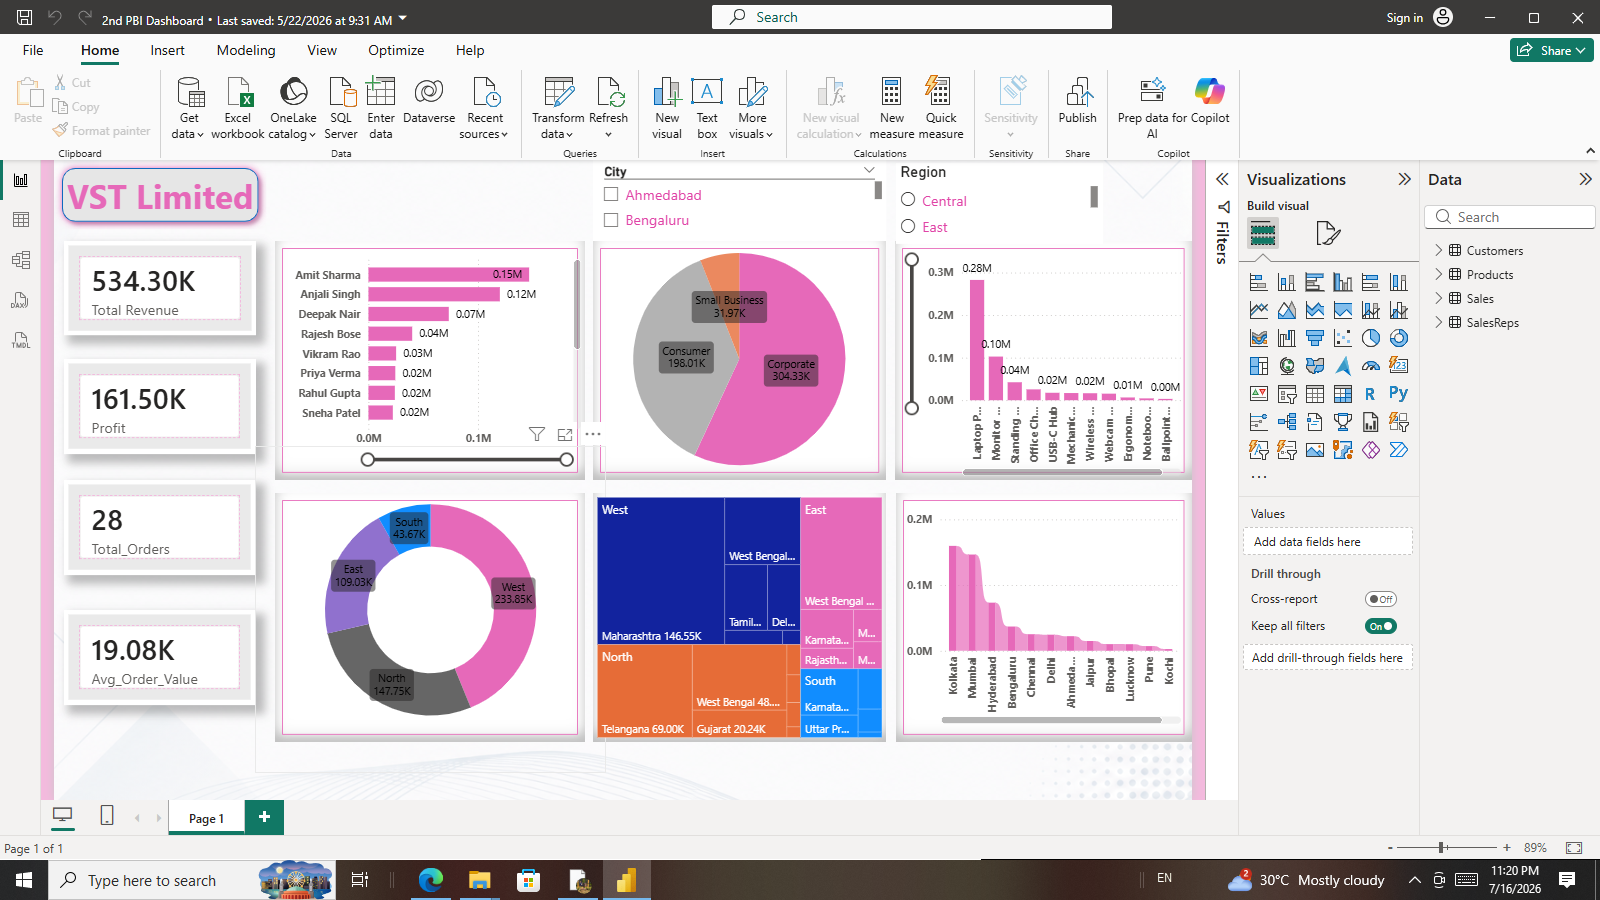

The dashboard page shown, as its layout file describes it:
{"tool":"powerbi","page":{"name":"Page 1","canvas":[1280,720],"ordinal":0},"visuals":[{"type":"shape","box":[0,0,239,78.4],"z":0},{"type":"cardVisual","fields":{"Data":["Customers.Total Revenue"]},"box":[11.2,91.2,216.2,106.2],"z":1000},{"type":"cardVisual","fields":{"Data":["Customers.Profit"]},"box":[11.6,223.6,215.9,106.7],"z":2000},{"type":"cardVisual","fields":{"Data":["Customers.Total_Orders"]},"box":[11.6,359.8,215.9,106.7],"z":3000},{"type":"cardVisual","fields":{"Data":["Customers.Avg_Order_Value"]},"box":[11.6,506.3,215.9,106.7],"z":4000},{"type":"shape","box":[248.8,91.2,348.8,268.8],"z":5000},{"type":"shape","box":[606.2,91.2,330,268.8],"z":6000},{"type":"shape","box":[248.8,375,348.8,280],"z":7000},{"type":"shape","box":[606.2,375,330,280],"z":8000},{"type":"shape","box":[946.2,91.2,333.8,268.8],"z":9000},{"type":"shape","box":[947.5,375,332.5,280],"z":10000},{"type":"clusteredBarChart","fields":{"Category":["Customers.CustomerName"],"Y":["Sum(Sales.TotalAmount)"]},"box":[258.8,98.8,338.8,248.8],"z":11000},{"type":"ribbonChart","fields":{"Category":["Customers.City"],"Y":["Sum(Sales.TotalAmount)"]},"box":[953.8,390,318.8,248.8],"z":12000},{"type":"pieChart","fields":{"Category":["Customers.Segment"],"Y":["Sum(Sales.TotalAmount)"]},"box":[542.5,53.8,457.5,340],"z":13000},{"type":"donutChart","fields":{"Category":["SalesReps.Region"],"Y":["Sum(Sales.TotalAmount)"]},"box":[226.2,321.2,395,368.8],"z":14000},{"type":"treemap","fields":{"Group":["SalesReps.Region","Customers.City"],"Details":["Customers.State"],"Values":["Sum(Sales.TotalAmount)"]},"box":[606.2,375,330,280],"z":15000},{"type":"columnChart","fields":{"Category":["Products.ProductName"],"Y":["Sum(Sales.TotalAmount)"]},"box":[953.8,98.8,318.8,261.2],"z":16000},{"type":"listSlicer","fields":{"Values":["Customers.Region"]},"box":[947.2,3.4,232.9,91.1],"z":17000},{"type":"slicer","fields":{"Values":["Customers.City"]},"box":[606.4,0,329.6,91.1],"z":18000}]}

Visuals, with their boxes on the page's 1280x720 design canvas (x1, y1, x2, y2). These are canvas units, not pixel positions in the 1600x900 screenshot, which may show the page scaled, cropped or inside an application window:
shape: Rect(0, 0, 239, 78)
cardVisual - Customers.Total Revenue: Rect(11, 91, 227, 197)
cardVisual - Customers.Profit: Rect(12, 224, 228, 330)
cardVisual - Customers.Total_Orders: Rect(12, 360, 228, 466)
cardVisual - Customers.Avg_Order_Value: Rect(12, 506, 228, 613)
shape: Rect(249, 91, 598, 360)
shape: Rect(606, 91, 936, 360)
shape: Rect(249, 375, 598, 655)
shape: Rect(606, 375, 936, 655)
shape: Rect(946, 91, 1280, 360)
shape: Rect(948, 375, 1280, 655)
clusteredBarChart - Customers.CustomerName x Sum(Sales.TotalAmount): Rect(259, 99, 598, 348)
ribbonChart - Customers.City x Sum(Sales.TotalAmount): Rect(954, 390, 1273, 639)
pieChart - Customers.Segment x Sum(Sales.TotalAmount): Rect(542, 54, 1000, 394)
donutChart - SalesReps.Region x Sum(Sales.TotalAmount): Rect(226, 321, 621, 690)
treemap - SalesReps.Region x Customers.City: Rect(606, 375, 936, 655)
columnChart - Products.ProductName x Sum(Sales.TotalAmount): Rect(954, 99, 1273, 360)
listSlicer - Customers.Region: Rect(947, 3, 1180, 94)
slicer - Customers.City: Rect(606, 0, 936, 91)
